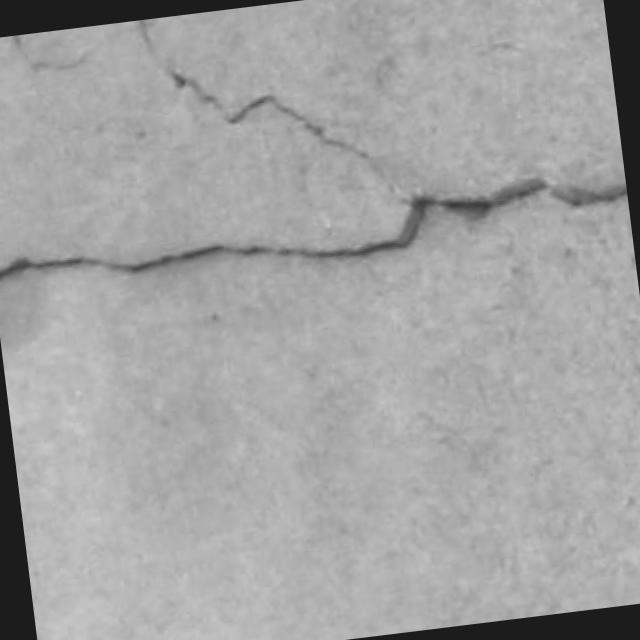crack: (0, 178, 627, 280), (136, 19, 410, 201), (0, 200, 429, 280), (11, 35, 89, 71), (551, 183, 627, 206)
